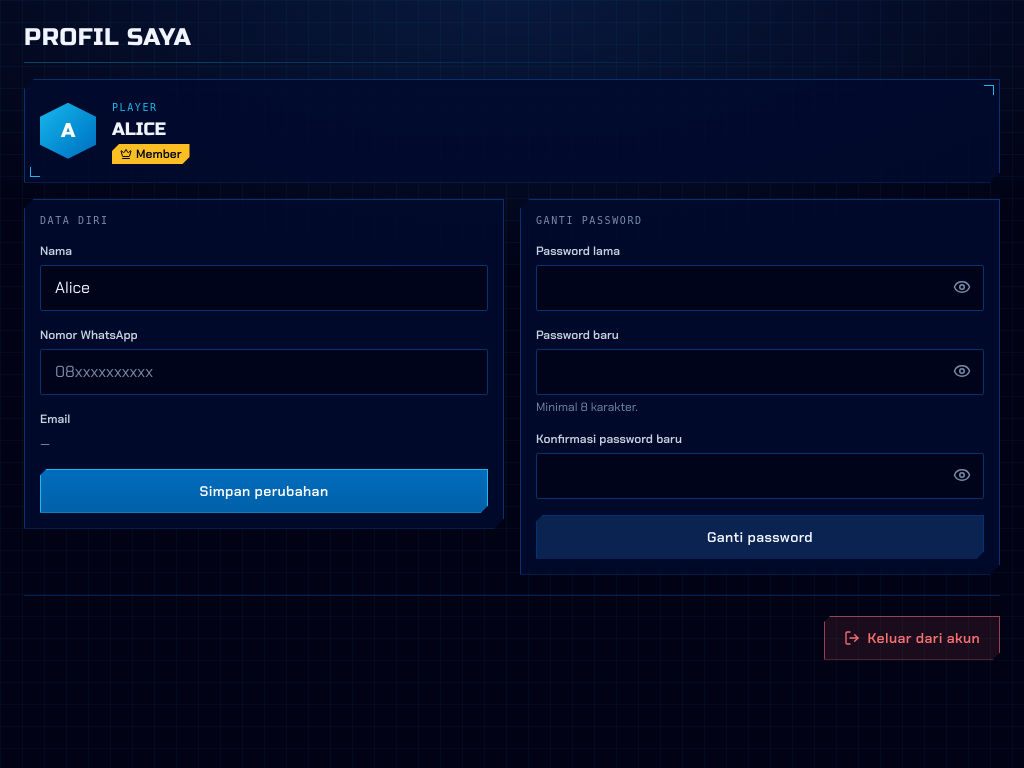
Scenario: ResetPasswordView › 2c review fixes › wrong old password (400) shows the server message, with no special 401 handling
This screenshot has width=1024, height=768.
Type "salah1234" into the password field labelled "Password lama" at (760, 288), box [536,264,984,310]
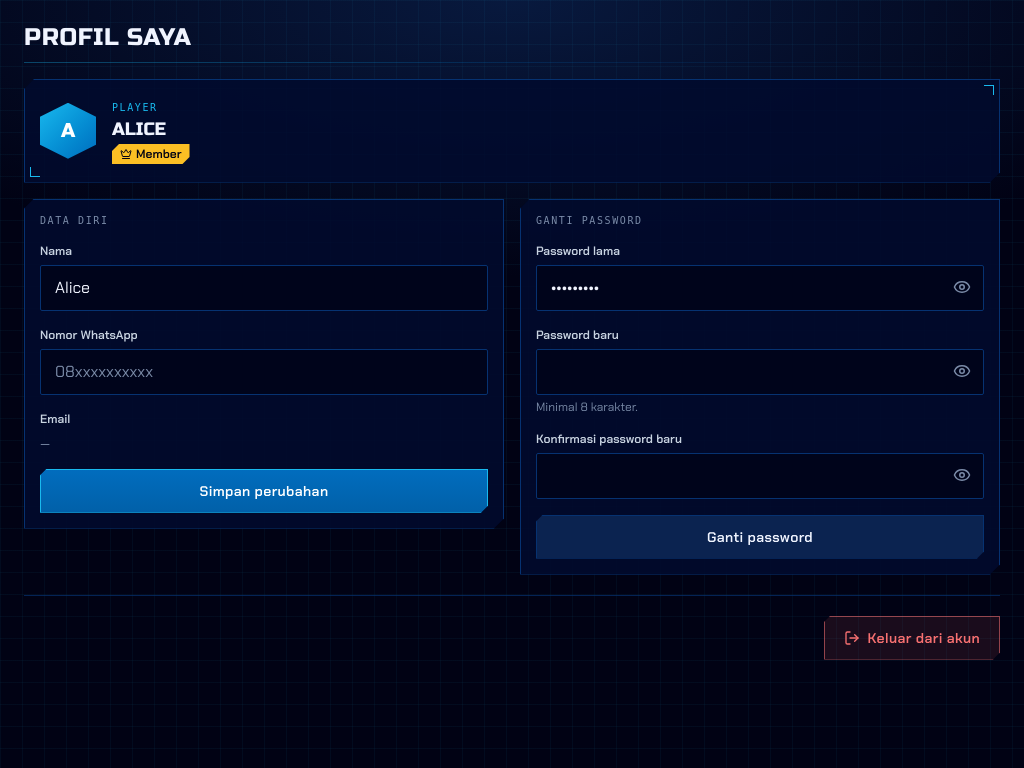
Type "passwordbaru1" into the password field labelled "Password baru" at (760, 372), box [536,348,984,394]
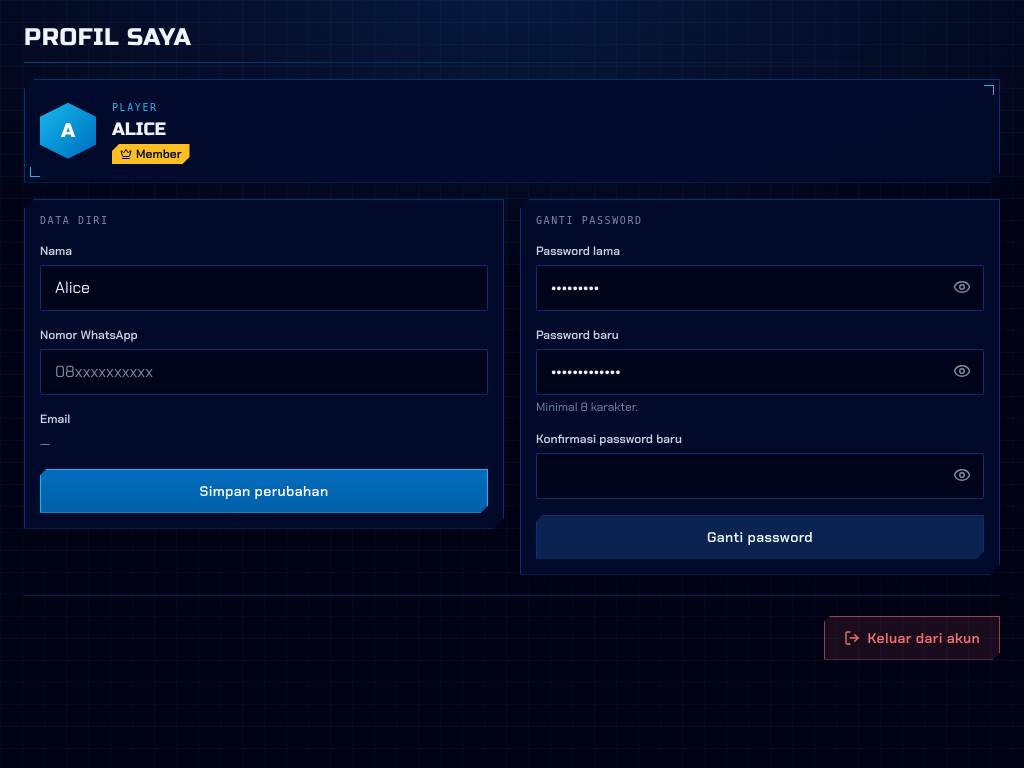
Type "passwordbaru1" into the password field labelled "Konfirmasi password baru" at (760, 476), box [536,452,984,498]
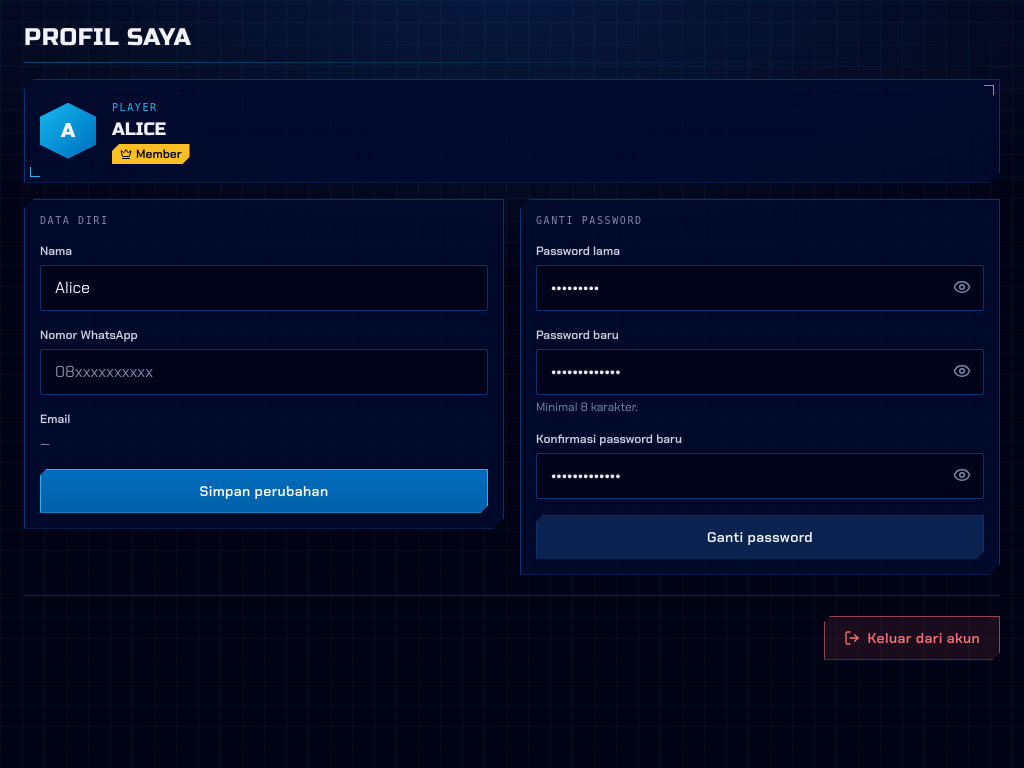
Submit the form named "Ganti password", box [536,242,984,558]
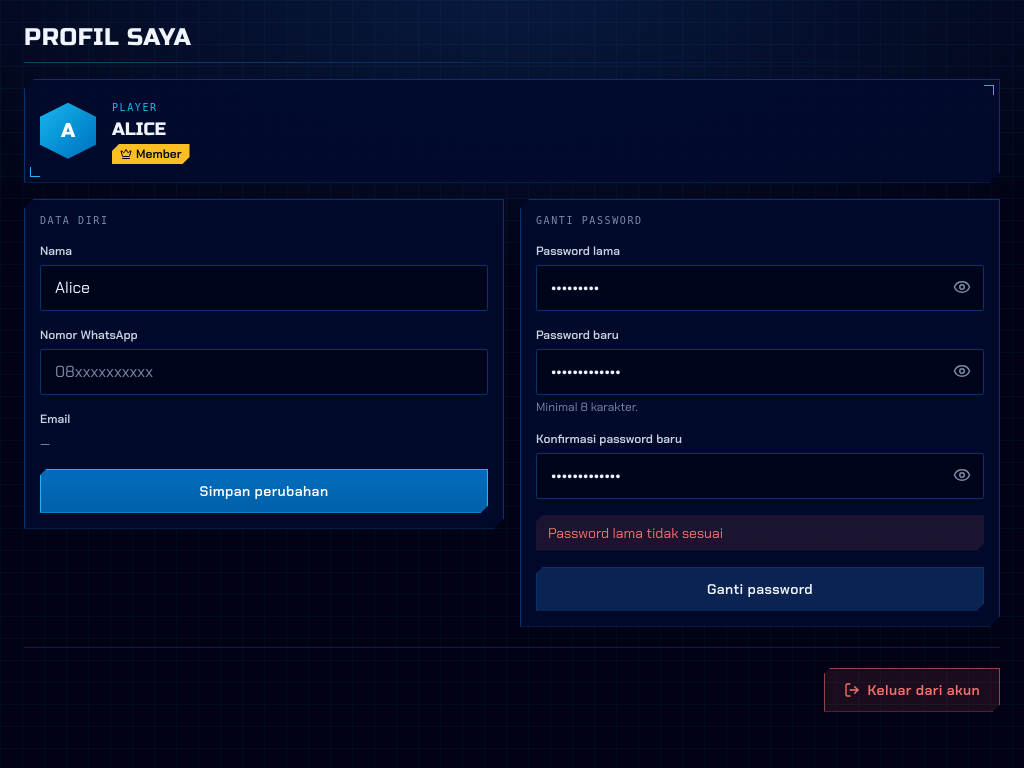
Now the message "Password lama tidak sesuai" is shown, box [536,514,984,550]
